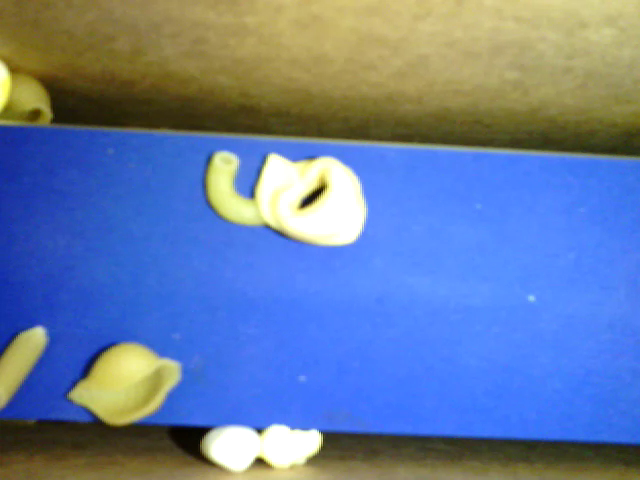elbow: (205, 145, 265, 226)
penne: (1, 322, 50, 405)
shell: (71, 336, 183, 425), (2, 69, 53, 127)
tortellini: (250, 149, 368, 247)
